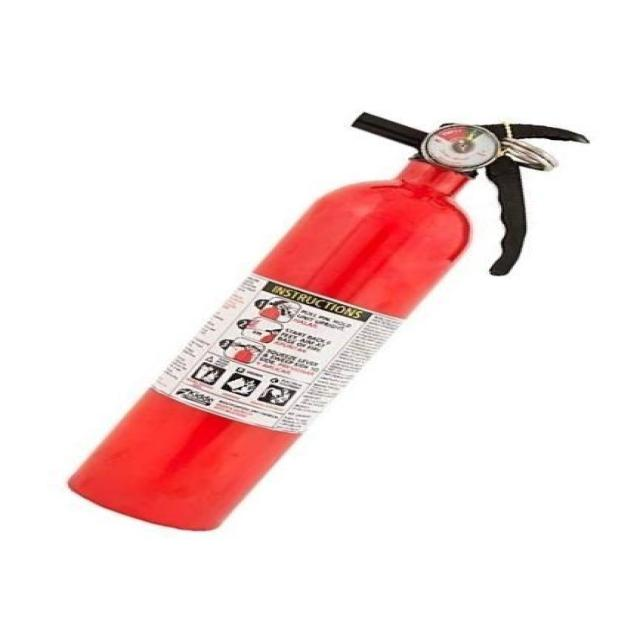fire_extinguisher: (54, 108, 598, 538)
